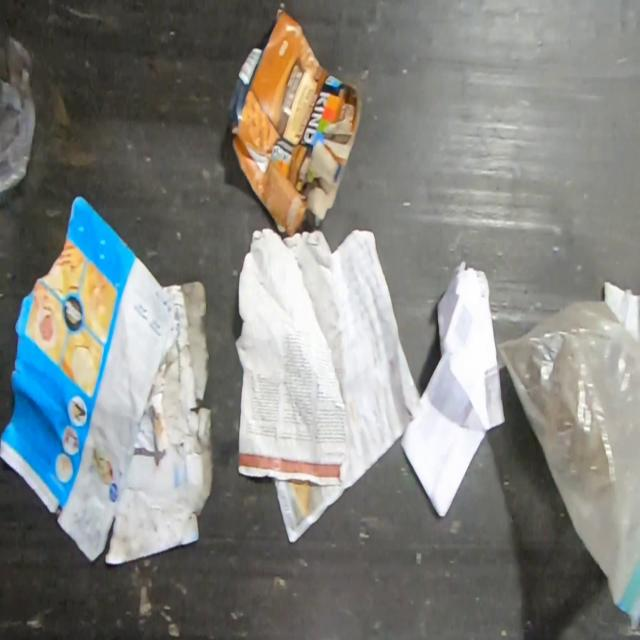cardboard: (226, 2, 366, 238)
soft_plastic: (494, 296, 640, 633), (0, 32, 37, 193)
